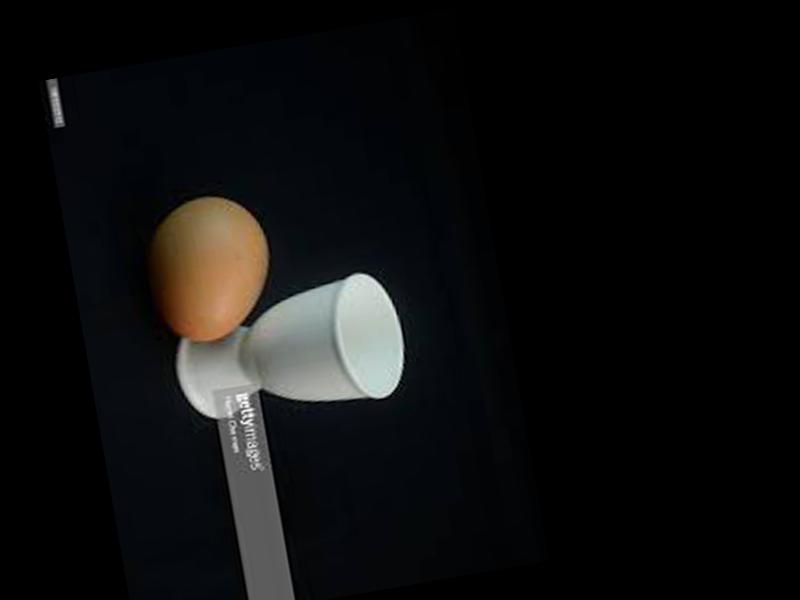Eggs: (144, 189, 282, 349)
